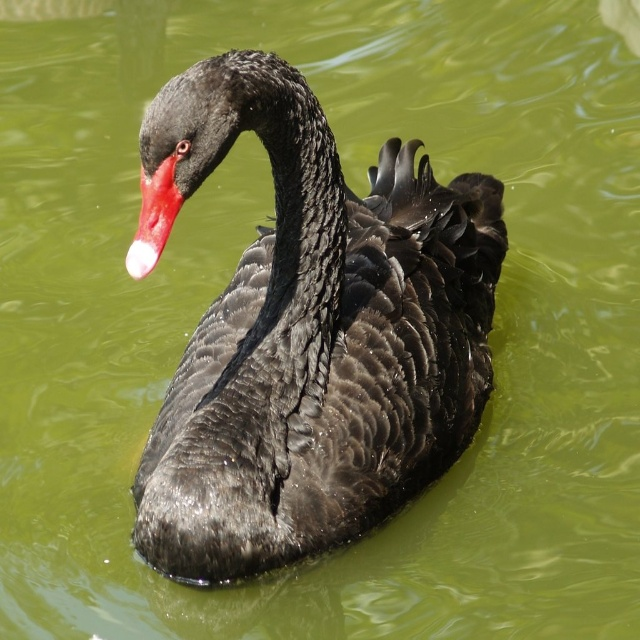Swan: (125, 48, 508, 591)
